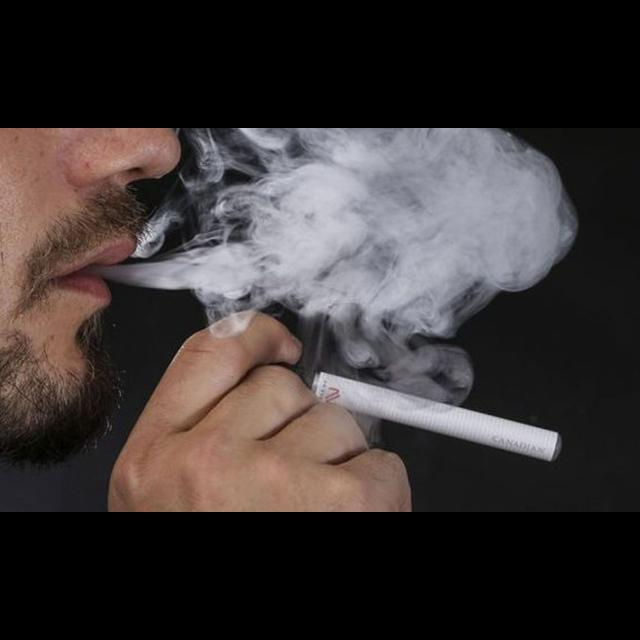rokok: (304, 362, 566, 478)
